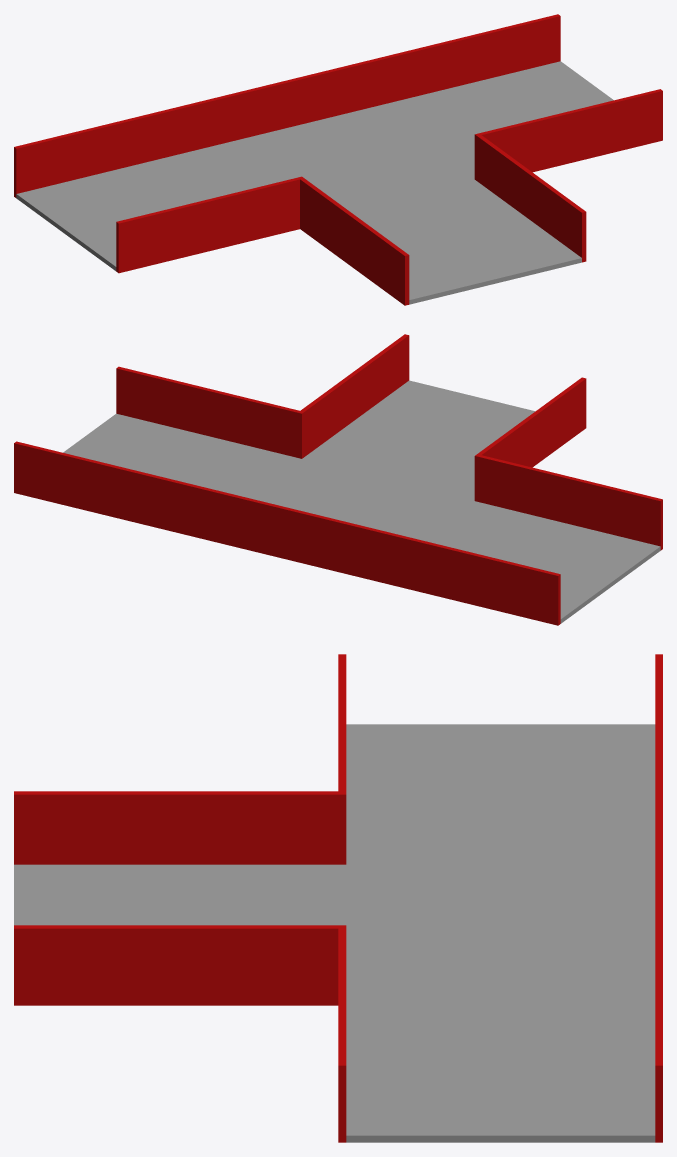
Rendered from tjunction.obj.
3 views of the same model, one above another, from view 1: azimuth 30°, elevation 25°; view 2: azimuth 150°, elevation 25°; view 3: azimuth 270°, elevation 25° (orthographic). The views are drawn at different scales.
Bounding box in the file's own units: 126 × 11 × 84.
Materials: 1 (1 with a texture image).
